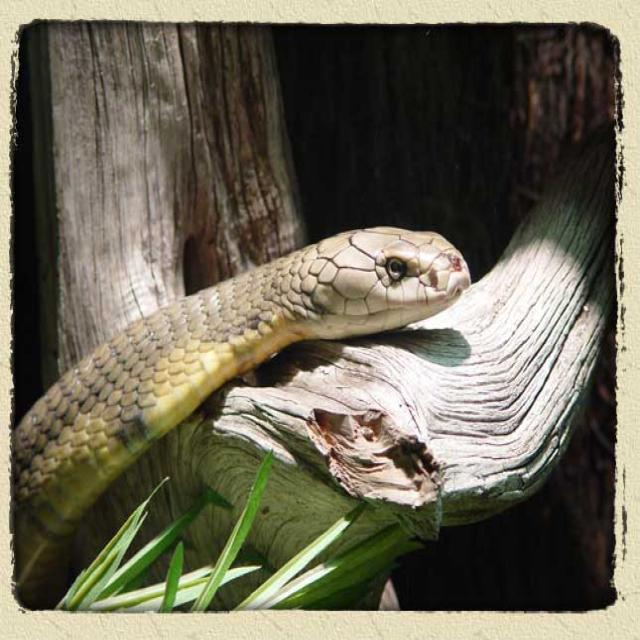Snake: (10, 222, 472, 608)
